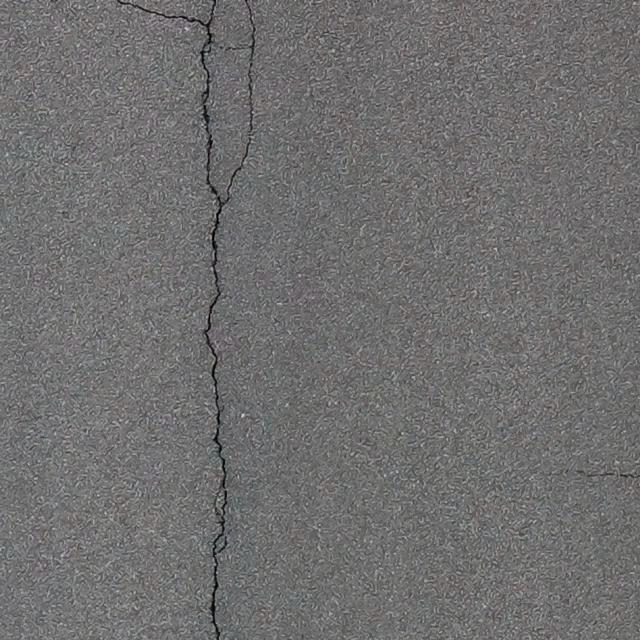GRIETA: (200, 0, 227, 639), (225, 0, 257, 204), (116, 0, 204, 26), (547, 469, 639, 479)
PIEL DE COCODRILO: (217, 636, 217, 637)
